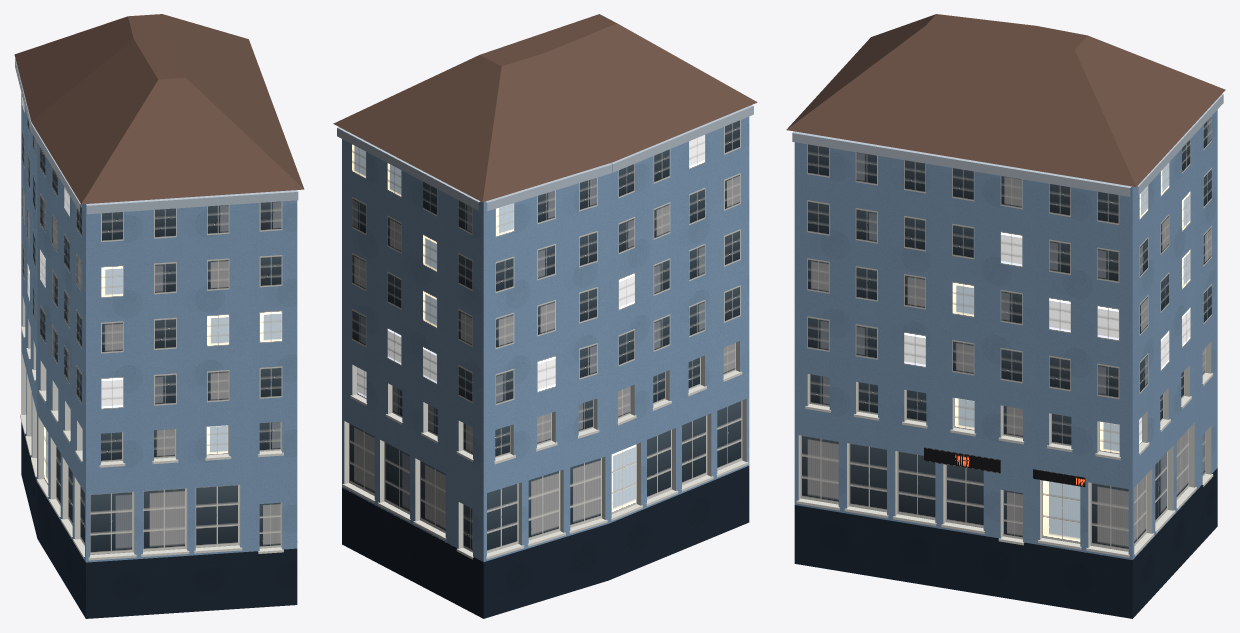
File: langC_tipsy.glb
3 renders of one model, left to right at view 1: azimuth 30°, elevation 25°; view 2: azimuth 150°, elevation 25°; view 3: azimuth 270°, elevation 25°, orthographic. The views are drawn at different scales.
Visible parts, largest first — view 1: langC_tipsy; view 2: langC_tipsy; view 3: langC_tipsy.
Boxes of the visible parts, <box> form: langC_tipsy: <box>14,14,304,618</box>; langC_tipsy: <box>333,14,757,618</box>; langC_tipsy: <box>786,14,1225,618</box>.
Bounding box in the file's own units: 16.42 × 26.21 × 20.34.
Materials: 3 (3 with a texture image).
